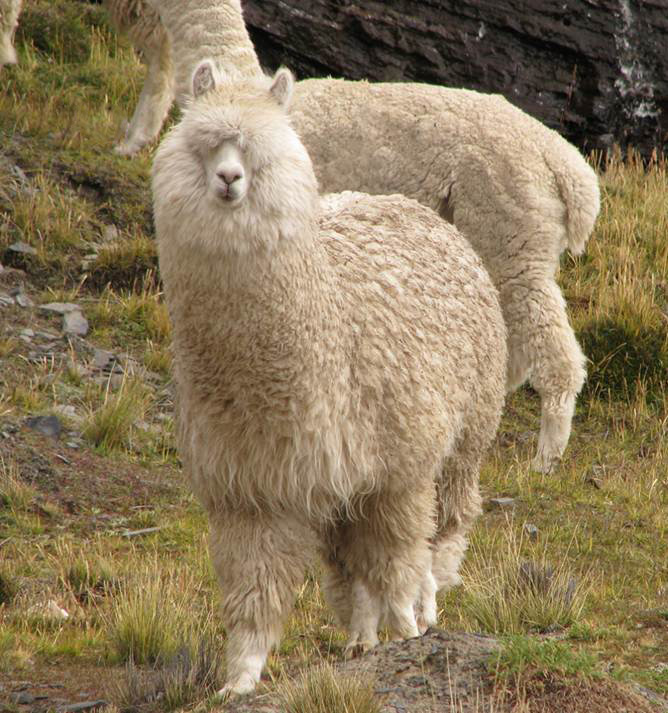alpaca: (148, 59, 507, 695)
